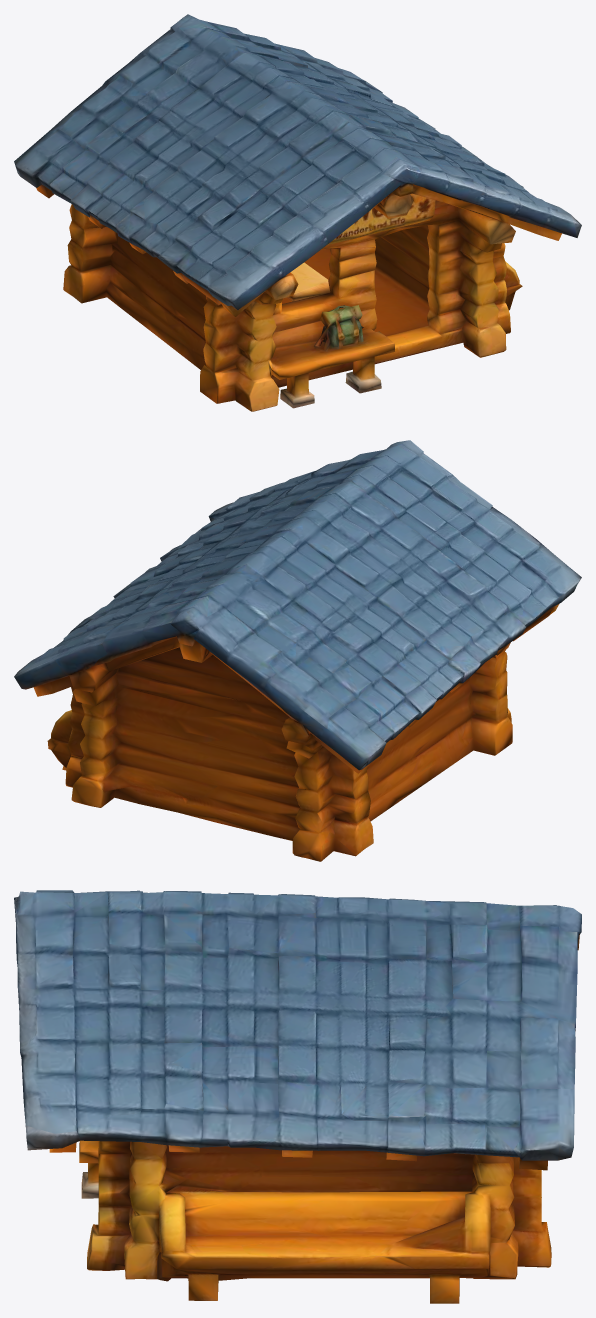
The model's file is 3wege_huette.glb.
3 renders of one model, top to bottom at view 1: azimuth 30°, elevation 25°; view 2: azimuth 150°, elevation 25°; view 3: azimuth 270°, elevation 25°, orthographic. The views are drawn at different scales.
Parts seen in each view (by area): view 1: tripo_node_a49e441e-7b5e-43f4-b922-ee7663b38c64; view 2: tripo_node_a49e441e-7b5e-43f4-b922-ee7663b38c64; view 3: tripo_node_a49e441e-7b5e-43f4-b922-ee7663b38c64.
Part boxes in pixels (x1,y1,x2,y2): tripo_node_a49e441e-7b5e-43f4-b922-ee7663b38c64: (14,14,581,411); tripo_node_a49e441e-7b5e-43f4-b922-ee7663b38c64: (14,440,581,861); tripo_node_a49e441e-7b5e-43f4-b922-ee7663b38c64: (14,890,581,1303).
Bounding box in the file's own units: 0.9109 × 0.5965 × 1.
1 material, 1 textured.
